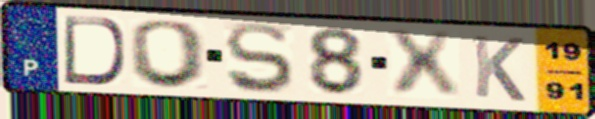8: (305, 26, 367, 97)
D: (60, 13, 129, 87)
K: (469, 32, 529, 104)
O: (127, 18, 211, 91)
S: (221, 20, 298, 96)
X: (382, 29, 465, 100)
